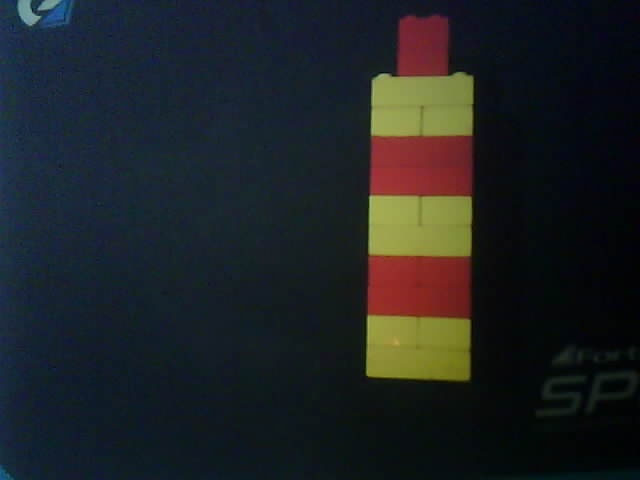lego: (365, 15, 474, 386)
